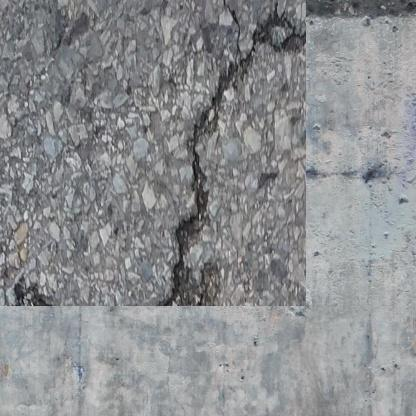Cracks: (143, 1, 283, 283), (7, 262, 50, 283)
